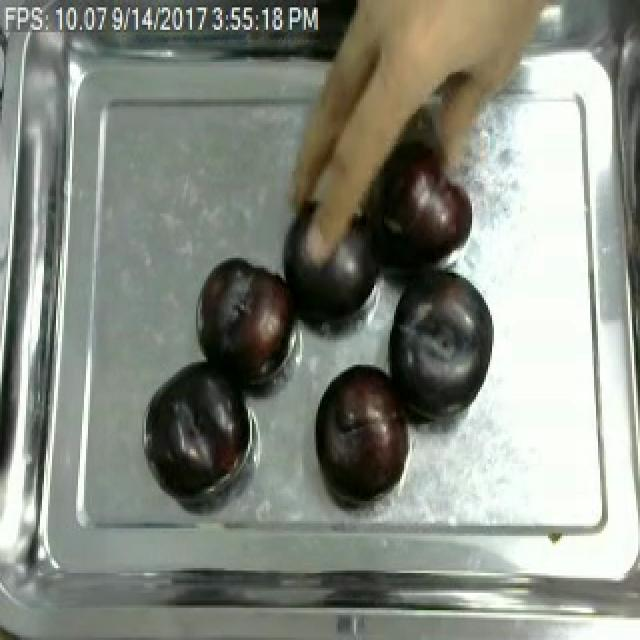Fruit: (380, 263, 498, 427), (138, 352, 250, 499), (310, 357, 416, 506), (192, 253, 300, 392), (372, 132, 480, 270), (276, 191, 382, 327)
